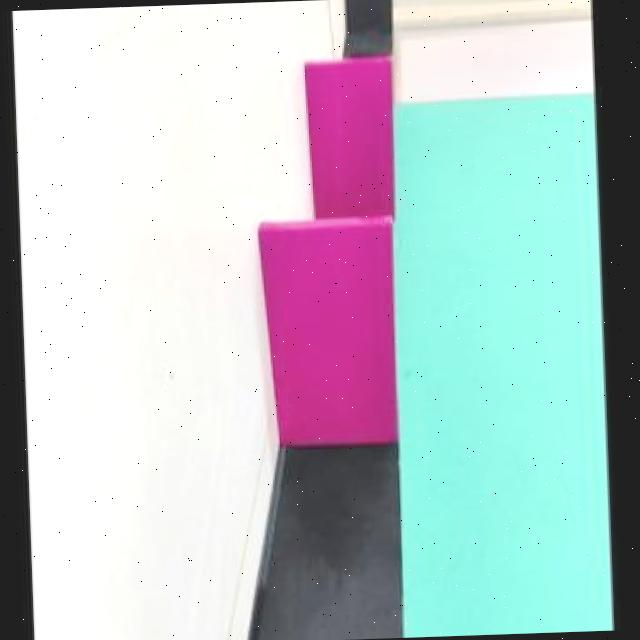xparking: (270, 219, 399, 442), (308, 60, 395, 218)
